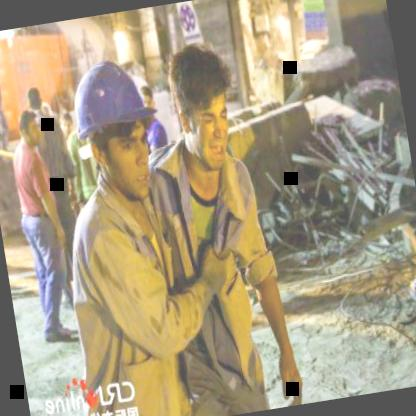head: (156, 36, 245, 180), (9, 102, 46, 156), (53, 102, 80, 140), (24, 78, 49, 116), (136, 80, 158, 118)
helmet: (62, 50, 164, 202)
